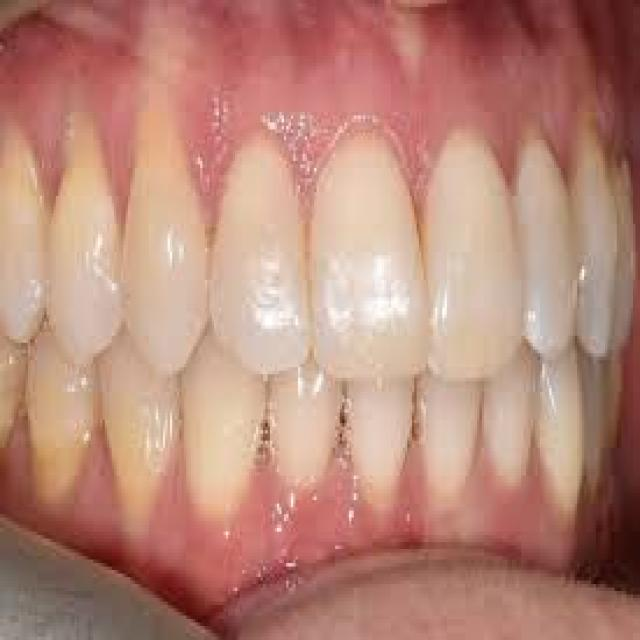tooth: (310, 123, 424, 374), (207, 115, 312, 368), (433, 112, 524, 388), (123, 101, 207, 368), (52, 95, 124, 368), (107, 325, 182, 549), (191, 325, 265, 549), (519, 112, 579, 360), (28, 318, 100, 511), (274, 360, 346, 504), (352, 360, 414, 507), (426, 364, 482, 507), (491, 364, 540, 504)
